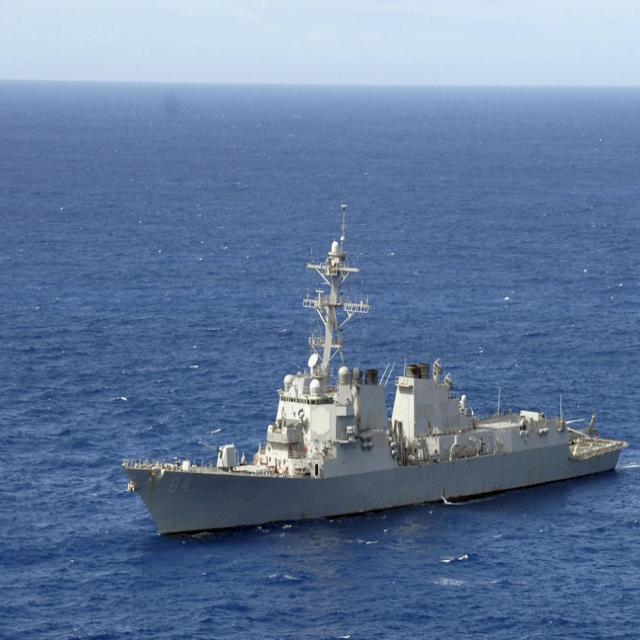navalvessels: (112, 176, 631, 543)
